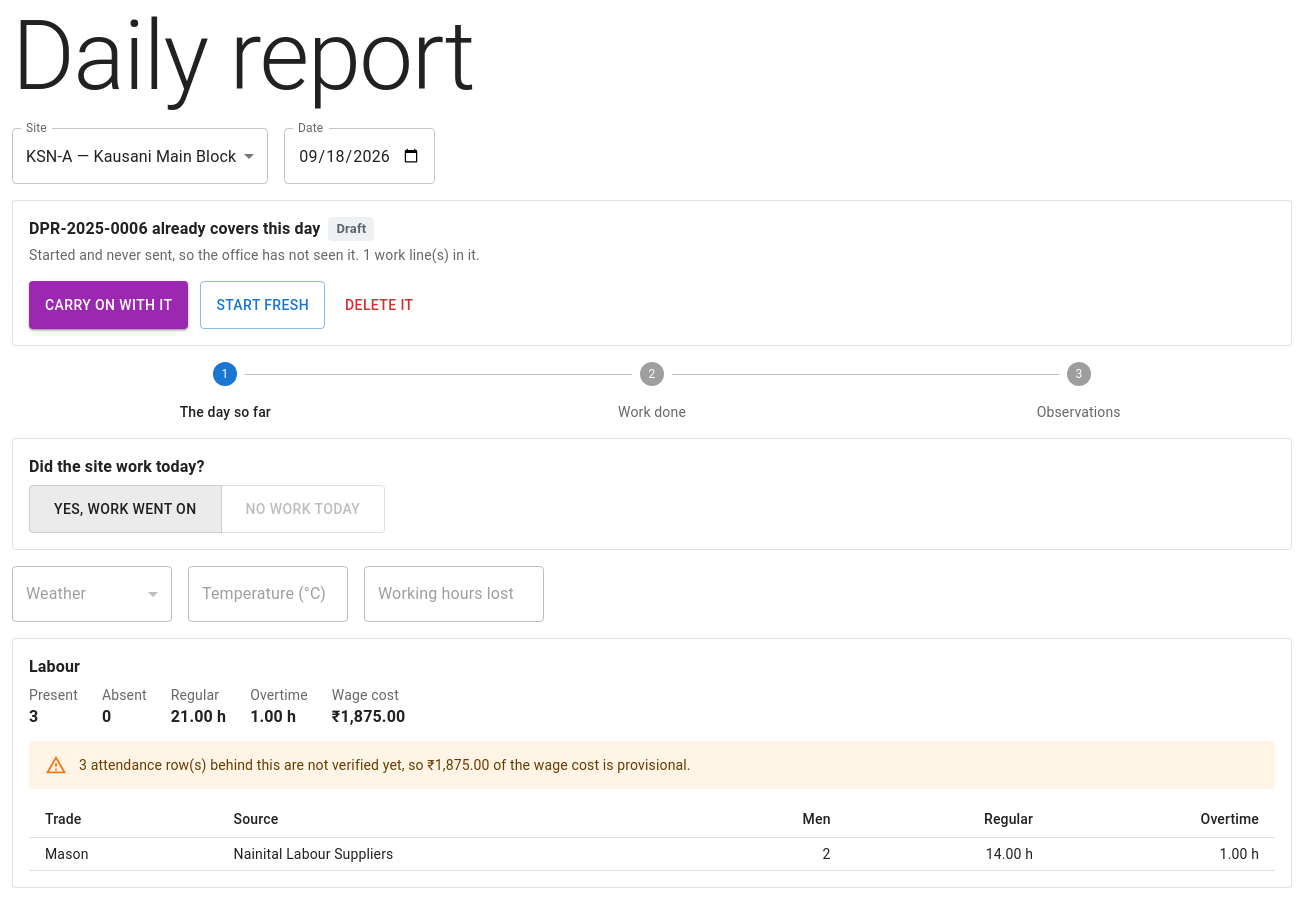
Test: DprWizardPage › offers to carry on with the draft that already covers the day
Expected: the text "DPR-2025-0006 already covers this day" is shown, [29,217,320,241]
Click the button "Carry on with it".
click(109, 305)  # box [29,281,188,329]
(page scrolled)
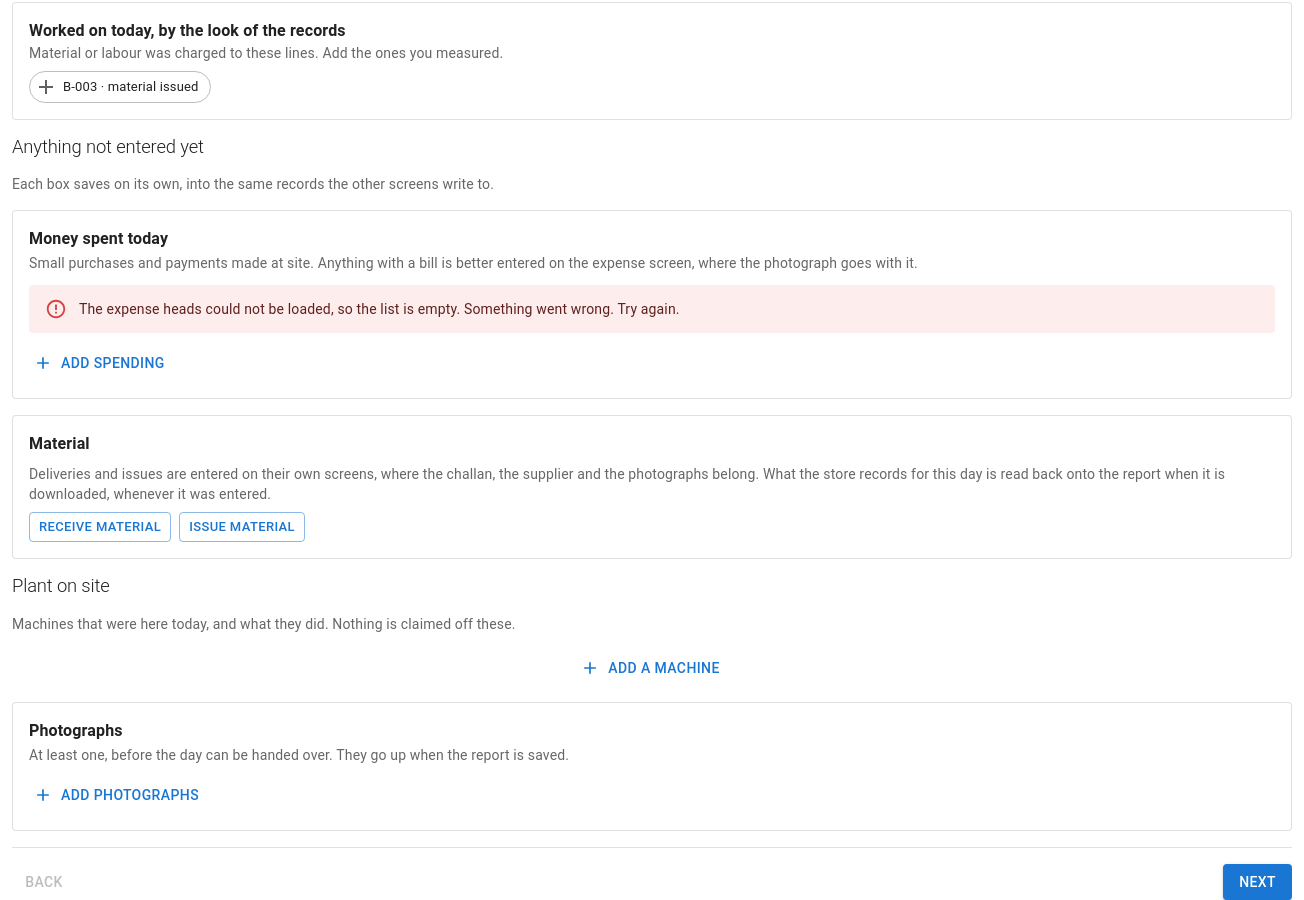
Click the button "Next".
click(1258, 882)  # box [1223,864,1292,899]
(page scrolled)
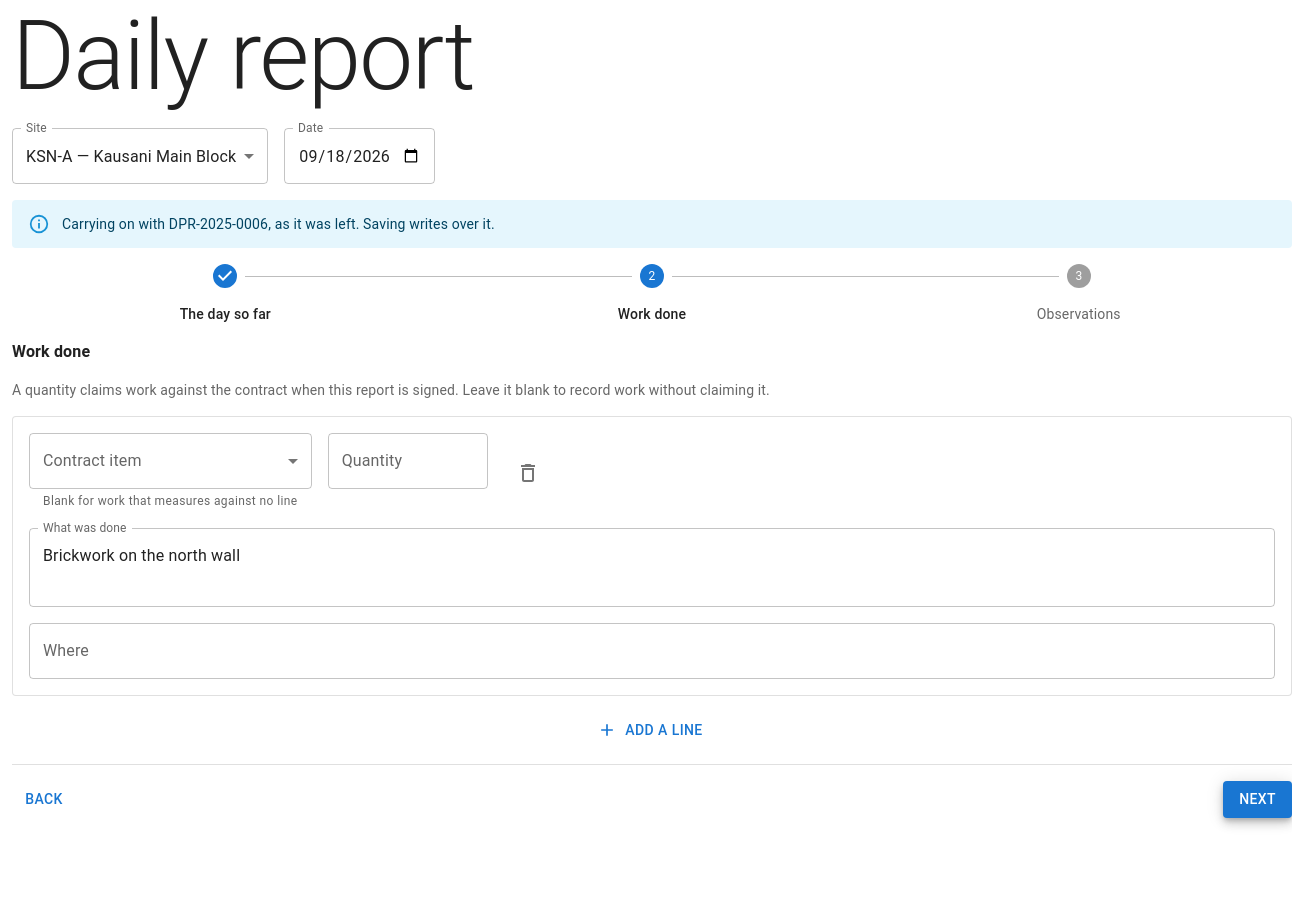
Expected: the text box labelled "What was done" holds "Brickwork on the north wall", [43,544,1261,590]
Click the button "Next".
click(1258, 800)  # box [1223,782,1292,818]
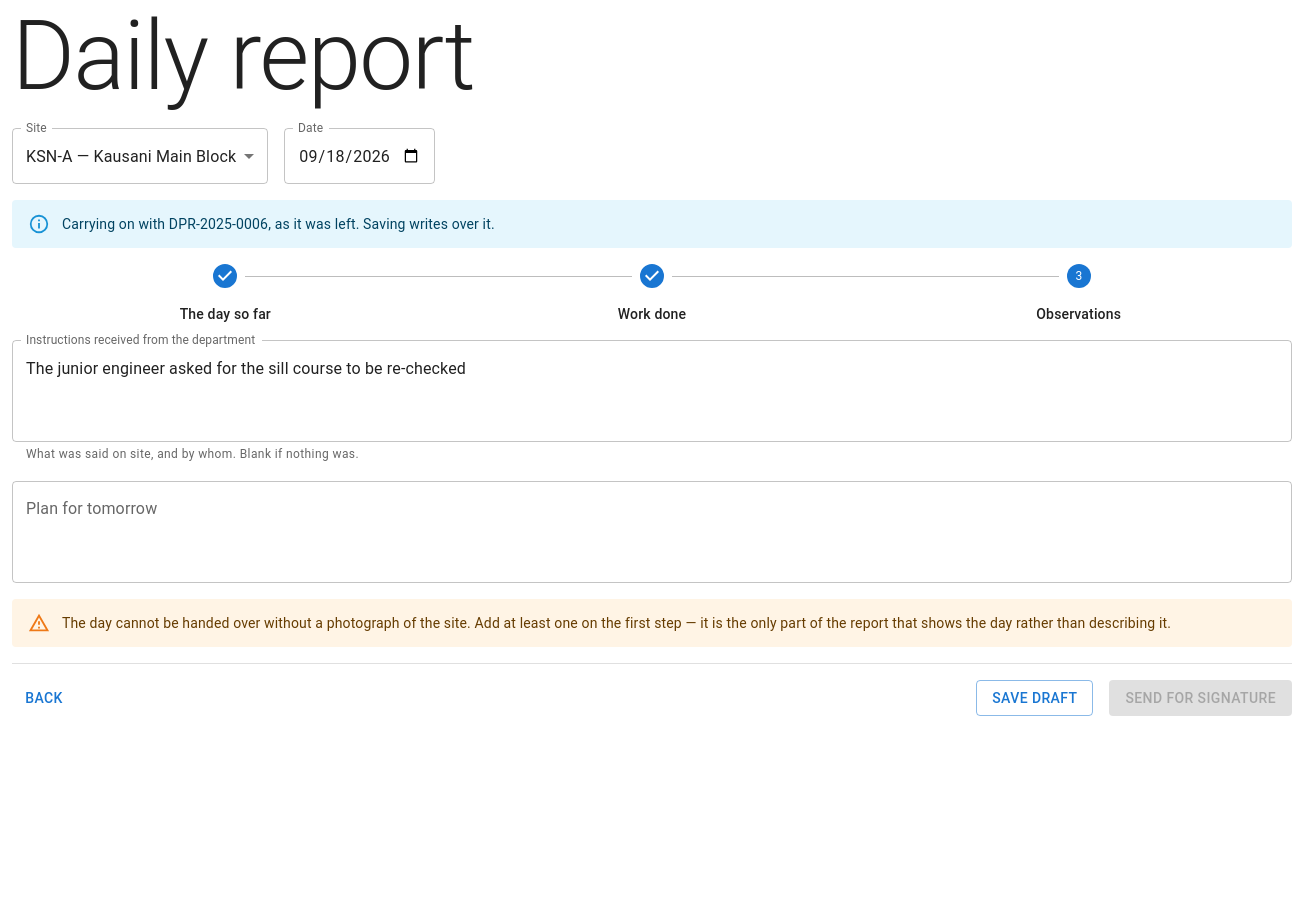
Expected: the text box labelled "Instructions received from the department" holds "The junior engineer asked for the sill course to be re-checked", [26,357,1278,426]
